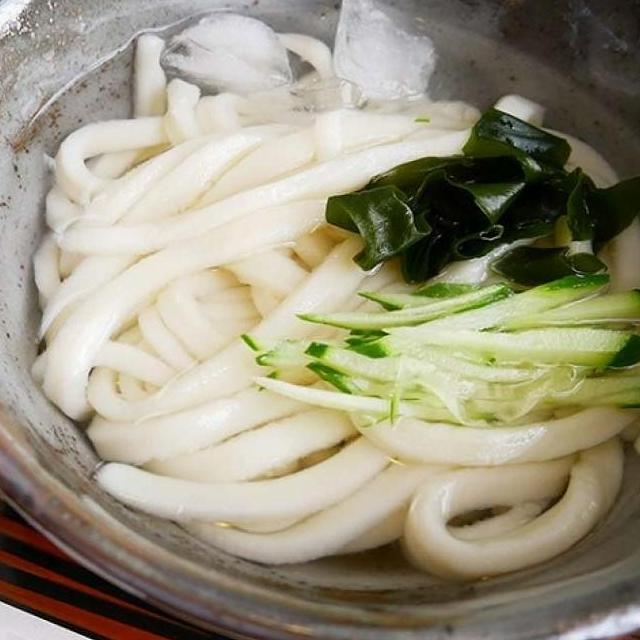mi: (19, 19, 640, 585)
